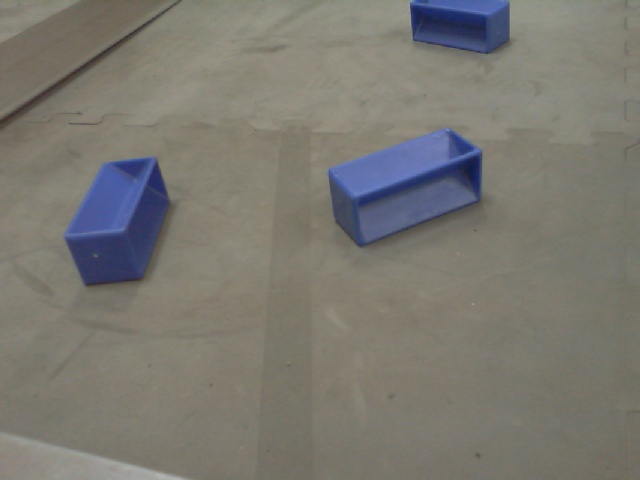BlueSample: (325, 124, 493, 249), (64, 154, 172, 297), (410, 1, 515, 56)
